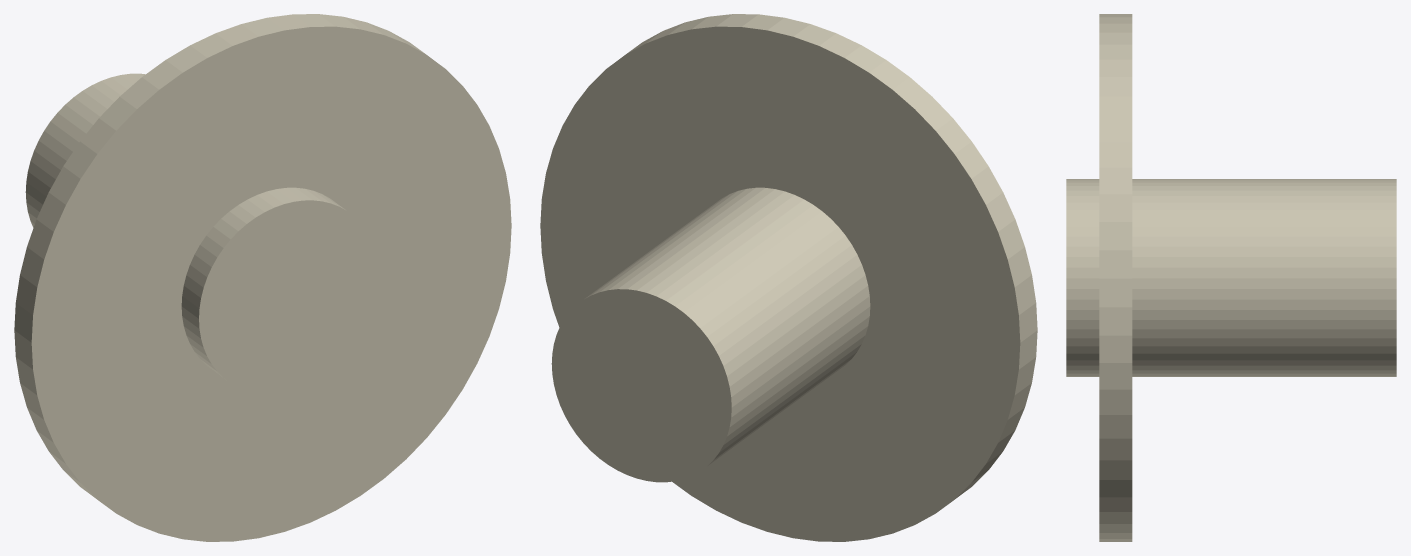
File: tps-rotor.glb
3 renders of one model, left to right at view 1: azimuth 30°, elevation 25°; view 2: azimuth 150°, elevation 25°; view 3: azimuth 270°, elevation 25°, orthographic. The views are drawn at different scales.
Parts seen in each view (by area): view 1: world; view 2: world; view 3: world.
Part boxes in pixels (left/top/right/bottom): world: left=14, top=14, right=511, bottom=541; world: left=540, top=14, right=1037, bottom=541; world: left=1066, top=14, right=1396, bottom=541.
Bounding box in the file's own units: 0.016 × 0.016 × 0.01.
